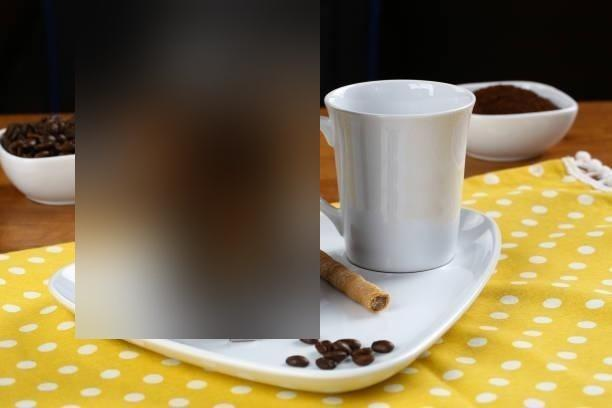cup-handle: (298, 77, 476, 274)
